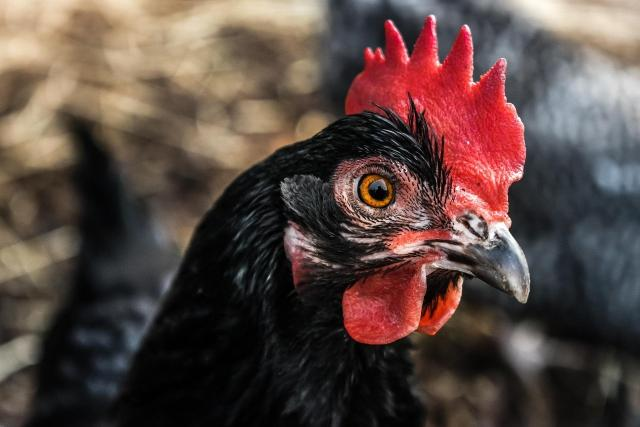Chicken: (103, 15, 532, 427)
